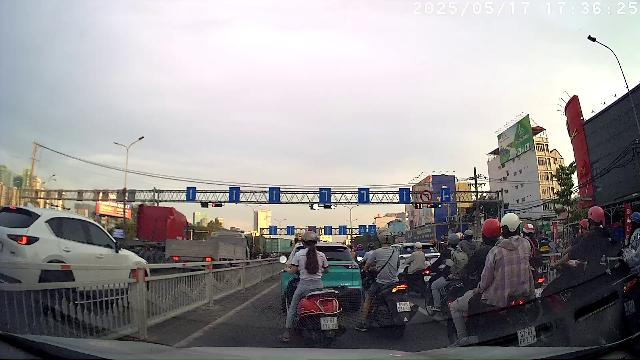123a-cam-re-trai: (420, 190, 432, 202)
